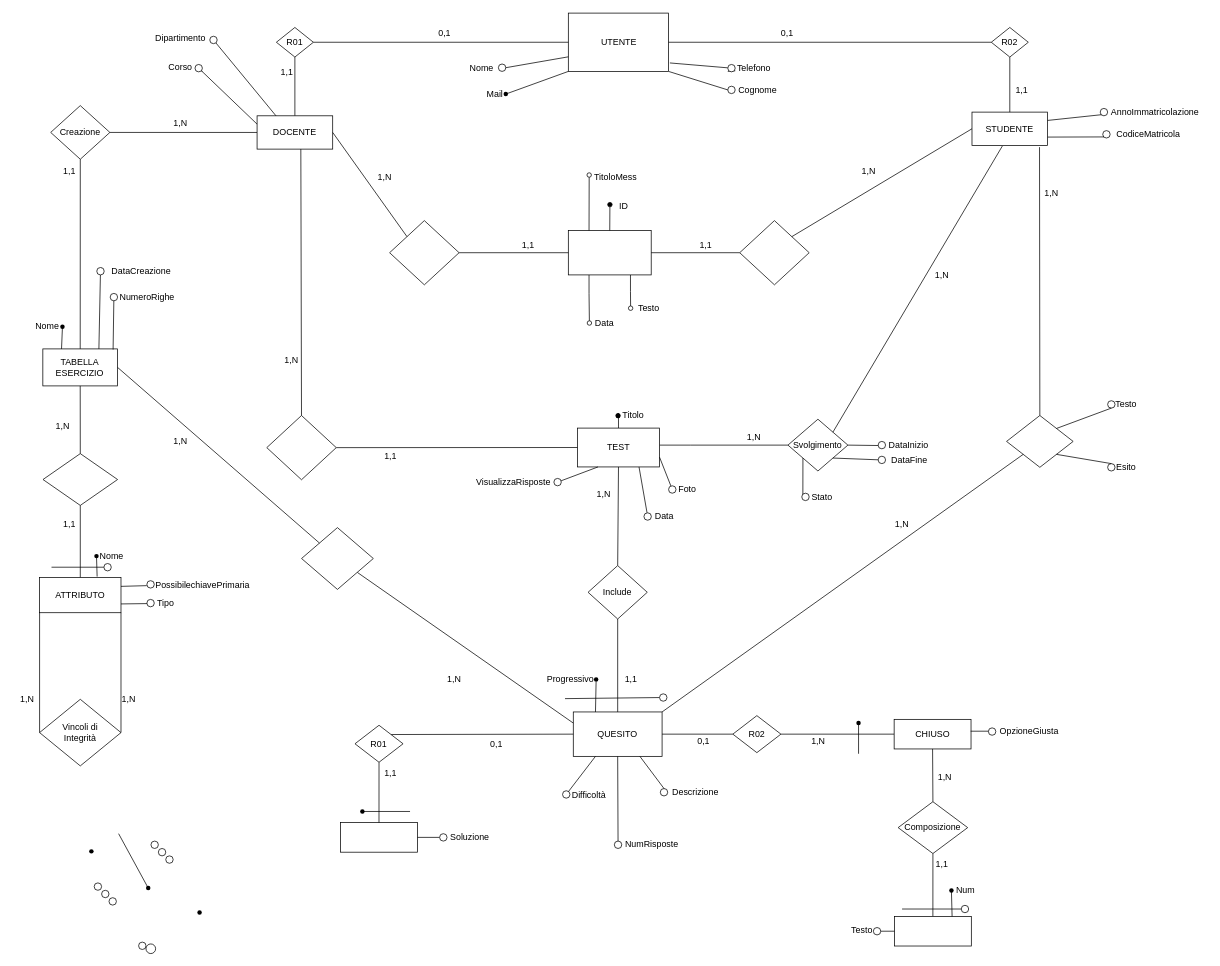
Image size: 1220x966. Some labels were removed from this diagram. Each missing label, with the centre of its shape:
"Formazione" belongs at (337,558).
"Interazione" belongs at (424,252).
"Invia" belongs at (774,252).
"MESSAGGIO" belongs at (609,252).
"OPZIONE" belongs at (932,931).
"Organizzazione" belongs at (80,479).
"Realizzazione" belongs at (301,447).
"RISPOSTA" belongs at (1039,441).
"SKETCH" belongs at (378,837).
